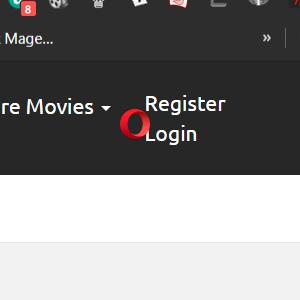opera: (119, 107, 150, 138)
